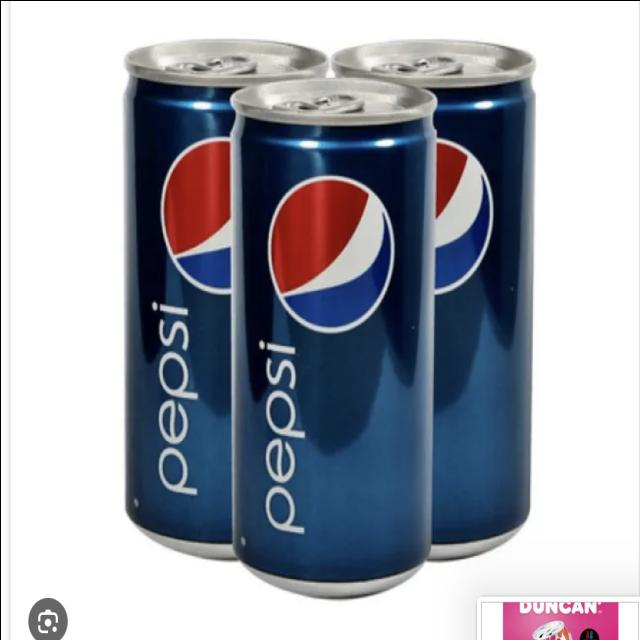can: (105, 18, 334, 576), (329, 31, 568, 562), (226, 70, 460, 604)
